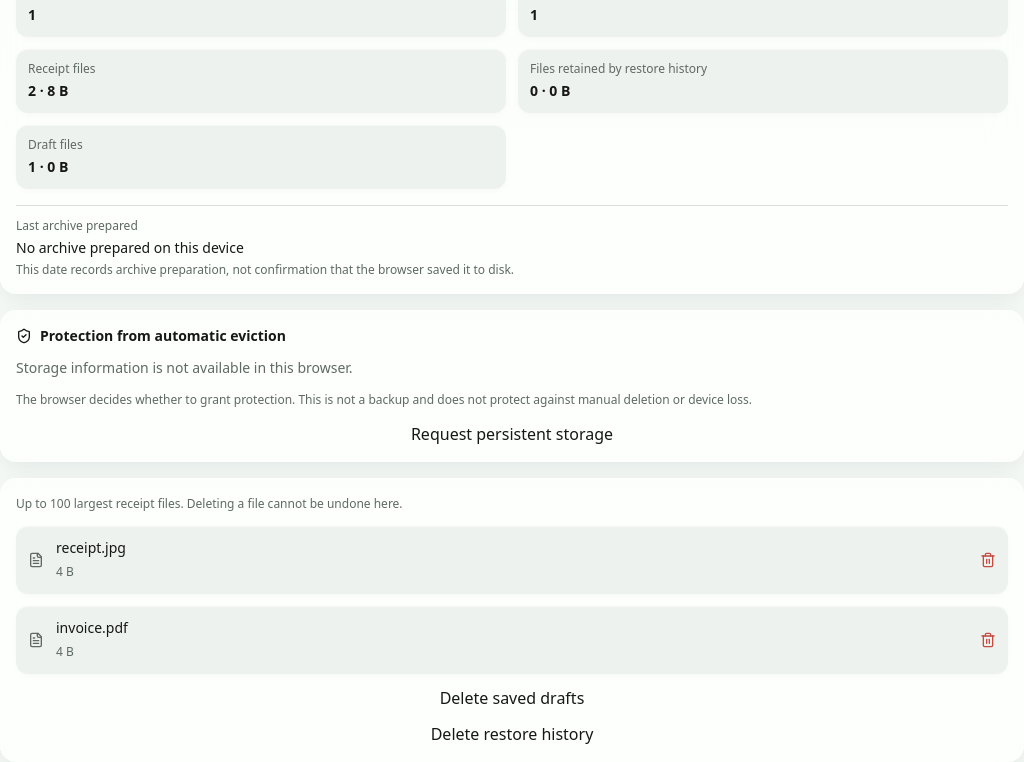
Test: storage controls › clears only unfinished drafts after confirmation
(page scrolled)
Expected: the text "receipt.jpg" is shown, [56,538,126,557]
Click the button "Delete saved drafts".
click(512, 698)  # box [16,686,1008,710]
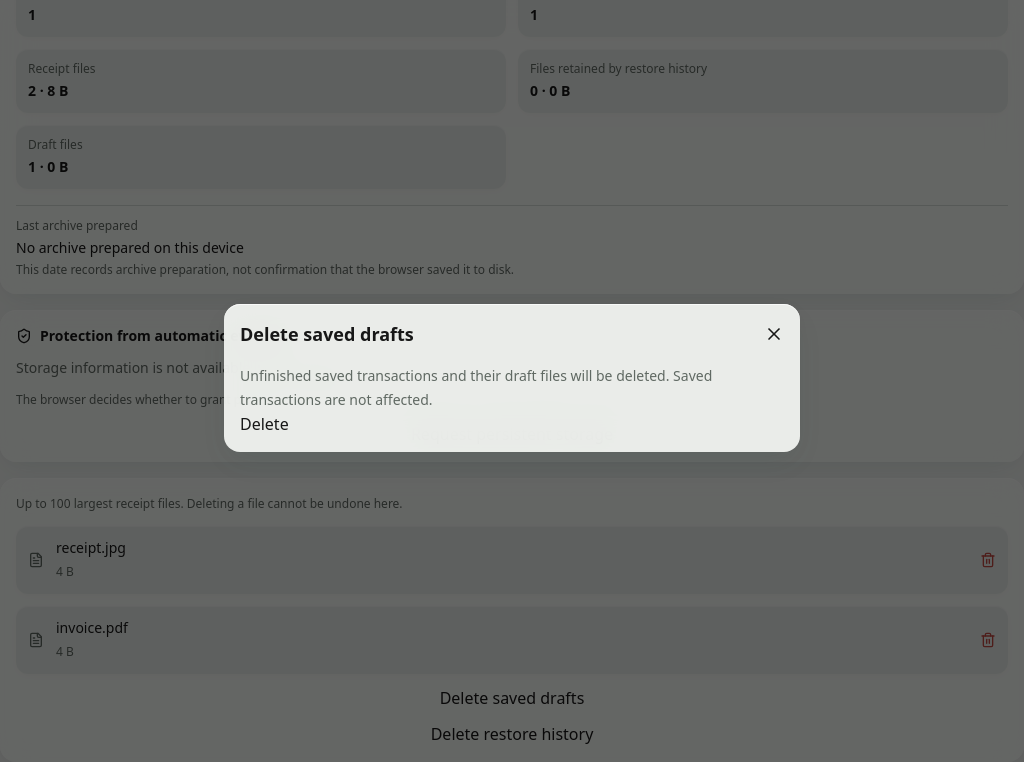
Click the button "Delete".
click(264, 424)  # box [240,412,289,436]
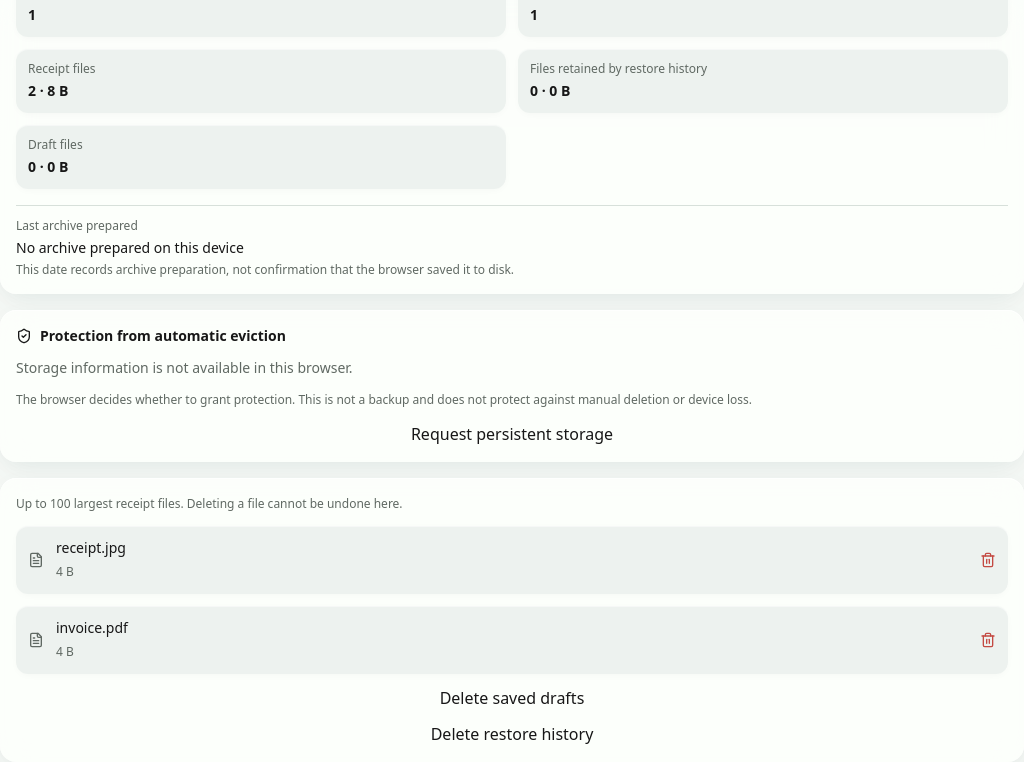
Result: the dialog is gone
